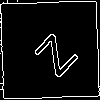Z: (25, 25, 80, 79)
